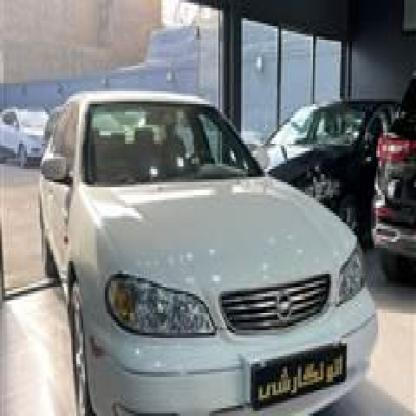Car: (35, 86, 378, 416), (260, 86, 395, 242), (365, 91, 416, 273), (0, 90, 55, 179)
